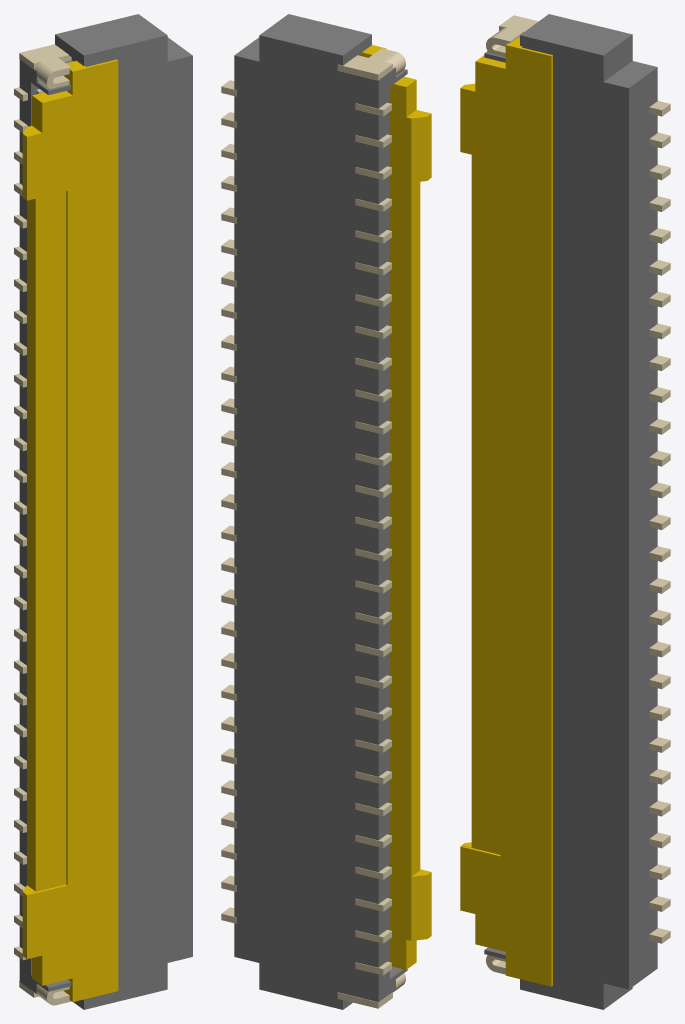
Rendered from Hirose_FH26-55S-0.3SHW_2Rows-55Pins-1MP_P0.60mm_Horizontal.glb.
3 views of the same model, side by side, from view 1: azimuth 30°, elevation 25°; view 2: azimuth 150°, elevation 25°; view 3: azimuth 330°, elevation 25° (orthographic).
Parts seen in each view (by area): view 1: Shape_IndexedFaceSet.004, Shape_IndexedFaceSet.031, Shape_IndexedFaceSet.034, Shape_IndexedFaceSet.049, Shape_IndexedFaceSet.014, Shape_IndexedFaceSet.001, Shape_IndexedFaceSet.042, Shape_IndexedFaceSet.420; view 2: Shape_IndexedFaceSet.003, Shape_IndexedFaceSet.032, Shape_IndexedFaceSet.014, Shape_IndexedFaceSet.049, Shape_IndexedFaceSet.001, Shape_IndexedFaceSet.030, Shape_IndexedFaceSet.050, Shape_IndexedFaceSet.420; view 3: Shape_IndexedFaceSet.004, Shape_IndexedFaceSet.031, Shape_IndexedFaceSet.006, Shape_IndexedFaceSet.034, Shape_IndexedFaceSet.001, Shape_IndexedFaceSet.038, Shape_IndexedFaceSet, Shape_IndexedFaceSet.002, Shape_IndexedFaceSet.420.
Boxes of the visible parts, bbox=[...] form: Shape_IndexedFaceSet.004: bbox=[48, 35, 192, 1009]; Shape_IndexedFaceSet.031: bbox=[27, 60, 118, 1001]; Shape_IndexedFaceSet.034: bbox=[27, 191, 66, 893]; Shape_IndexedFaceSet.049: bbox=[27, 198, 35, 890]; Shape_IndexedFaceSet.014: bbox=[19, 59, 48, 993]; Shape_IndexedFaceSet.001: bbox=[55, 14, 166, 55]; Shape_IndexedFaceSet.042: bbox=[66, 191, 67, 884]; Shape_IndexedFaceSet.420: bbox=[20, 44, 70, 70]; Shape_IndexedFaceSet.003: bbox=[234, 35, 378, 1009]; Shape_IndexedFaceSet.032: bbox=[360, 52, 411, 969]; Shape_IndexedFaceSet.014: bbox=[378, 67, 407, 1001]; Shape_IndexedFaceSet.049: bbox=[411, 181, 420, 876]; Shape_IndexedFaceSet.001: bbox=[260, 14, 371, 55]; Shape_IndexedFaceSet.030: bbox=[411, 875, 427, 940]; Shape_IndexedFaceSet.050: bbox=[411, 117, 427, 182]; Shape_IndexedFaceSet.420: bbox=[338, 48, 396, 74]; Shape_IndexedFaceSet.004: bbox=[484, 35, 628, 1009]; Shape_IndexedFaceSet.031: bbox=[460, 45, 551, 986]; Shape_IndexedFaceSet.006: bbox=[629, 67, 657, 989]; Shape_IndexedFaceSet.034: bbox=[462, 155, 500, 854]; Shape_IndexedFaceSet.001: bbox=[520, 14, 631, 55]; Shape_IndexedFaceSet.038: bbox=[551, 55, 552, 986]; Shape_IndexedFaceSet: bbox=[603, 35, 632, 81]; Shape_IndexedFaceSet.002: bbox=[604, 61, 657, 88]; Shape_IndexedFaceSet.420: bbox=[495, 15, 538, 41].
Bounding box in the file's own units: 1.4 × 7.09 × 0.4135.
